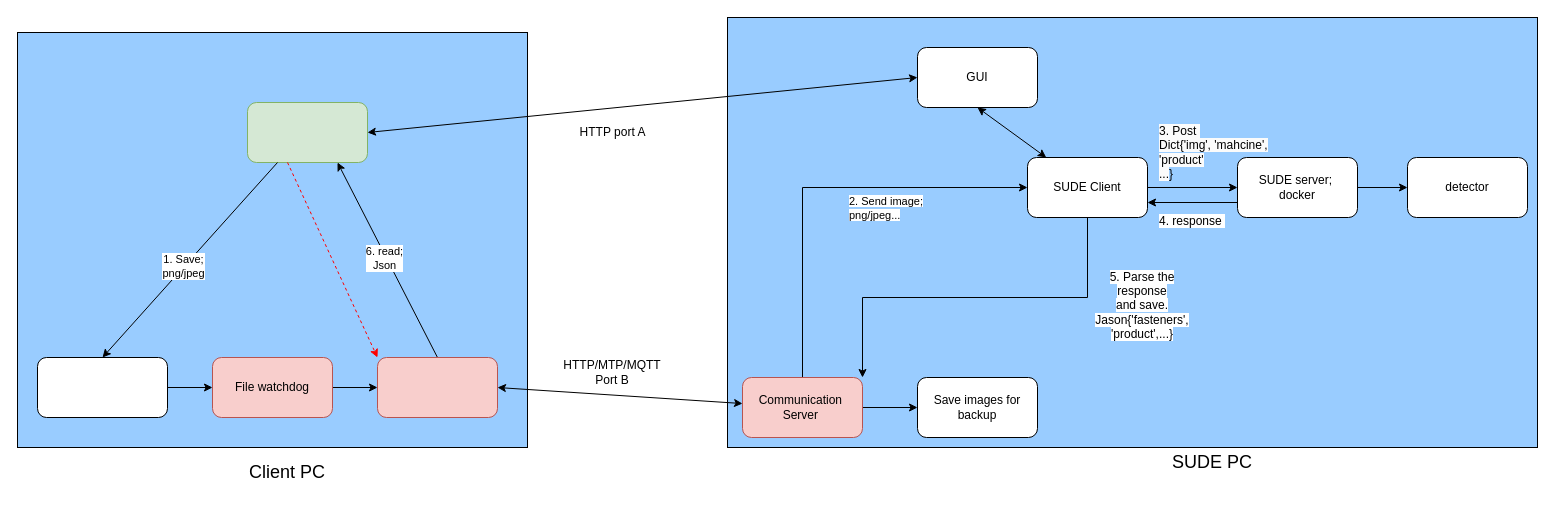
The diagram is 1555 pixels wide and 505 high, and some of its shapes have lost their labels. The centre of each missing label's shape, as x and y in pixels:
Client's software: pixel 307 132
Communication Client C#/C++/Python/Java ...: pixel 437 387
Meta data, coordinate,: pixel 102 387
